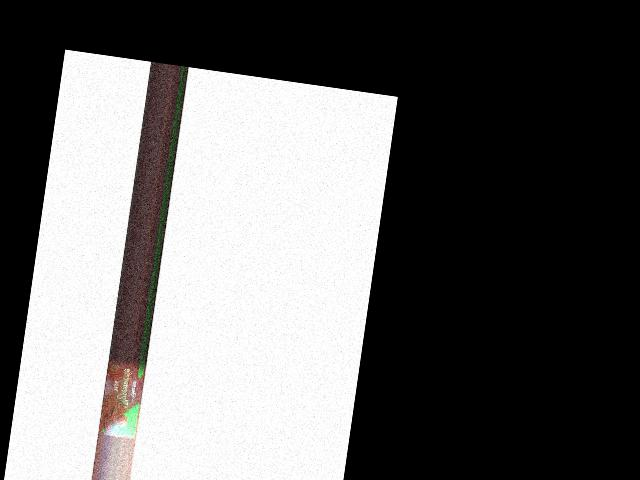chocolate: (98, 356, 145, 438)
